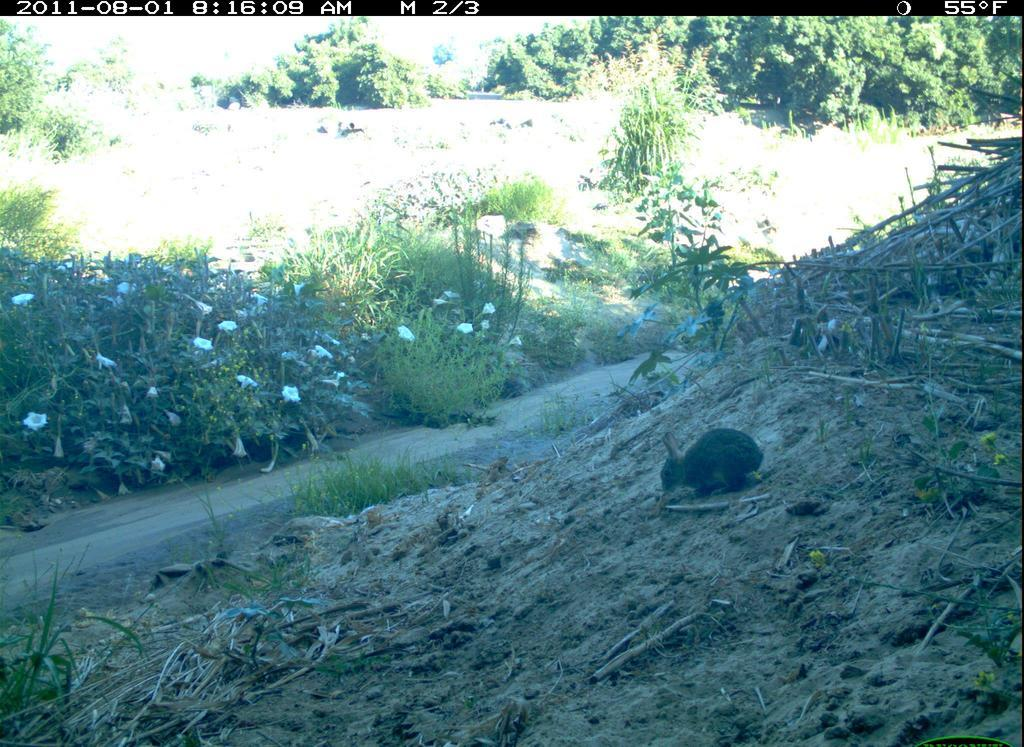rabbit: (652, 424, 772, 505)
